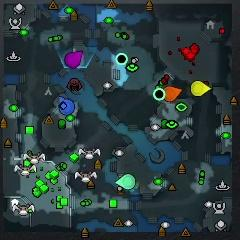p1: (58, 96, 75, 116)
p2: (115, 174, 136, 190)
p2Clone: (116, 53, 128, 66), (154, 88, 165, 100)
p3: (64, 50, 83, 68)
p4: (191, 81, 212, 97)
p5: (163, 86, 183, 102)
